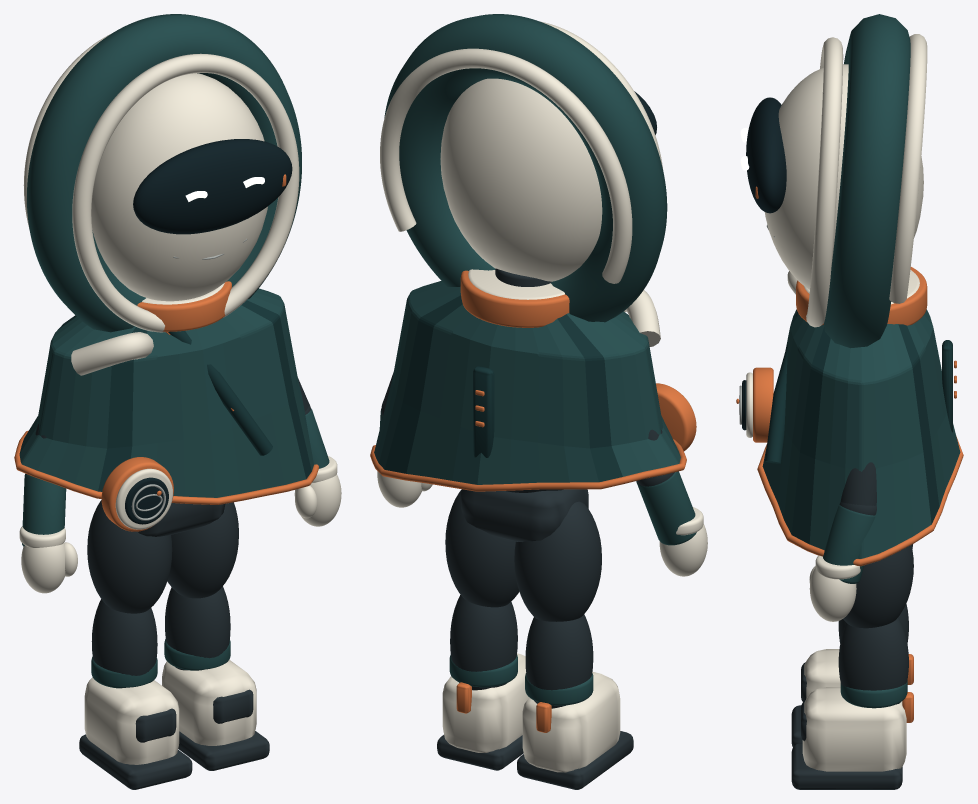
The model's file is moonphase-navigator.glb.
The picture shows the model from 3 angles, left to right: view 1: azimuth 30°, elevation 25°; view 2: azimuth 150°, elevation 25°; view 3: azimuth 270°, elevation 25°; orthographic projection. The views are drawn at different scales.
Visible parts, largest first — view 1: Asymmetric sculptural poncho, Crescent hood padded body, Oval pearl face, Moonstone hood front piping, Single horizontal charcoal visor, Tailored graphite trouser thigh -1, Moonstone boot -1, Moonstone boot 1, Tailored graphite trouser thigh 1, Trouser tapered lower leg -1, Trouser tapered lower leg 1, Graphite boot sole -1 (+20 smaller); view 2: Asymmetric sculptural poncho, Crescent hood padded body, Oval pearl face, Sculpted ivory lunar crest, Tailored graphite trouser thigh -1, Moonstone boot -1, Tailored graphite trouser thigh 1, Moonstone boot 1, Pelvis, Trouser tapered lower leg -1, Trouser tapered lower leg 1, Persimmon scarf collar (+13 smaller); view 3: Asymmetric sculptural poncho, Crescent hood padded body, Oval pearl face, Moonstone boot 1, Moonstone hood front piping, Sculpted ivory lunar crest, Trouser tapered lower leg 1, Tailored graphite trouser thigh 1, Single horizontal charcoal visor, Graphite boot sole 1, Sleeve cuff 1, Burnt orange continuous cape hem (+10 smaller).
Boxes of the visible parts, x1,y1,x2,y2 form: Asymmetric sculptural poncho: (19,288,313,497); Crescent hood padded body: (27,14,301,332); Oval pearl face: (91,73,267,301); Moonstone hood front piping: (72,53,299,332); Single horizontal charcoal visor: (133,139,292,234); Tailored graphite trouser thigh -1: (87,500,172,613); Moonstone boot -1: (84,677,179,764); Moonstone boot 1: (162,660,256,745); Tailored graphite trouser thigh 1: (167,502,238,598); Trouser tapered lower leg -1: (91,599,157,675); Trouser tapered lower leg 1: (165,586,230,670); Graphite boot sole -1: (79,734,192,789); Asymmetric sculptural poncho: (374,281,680,484); Crescent hood padded body: (384,14,667,322); Oval pearl face: (440,78,602,281); Sculpted ivory lunar crest: (380,48,632,283); Tailored graphite trouser thigh -1: (514,501,601,621); Moonstone boot -1: (522,671,620,772); Tailored graphite trouser thigh 1: (445,490,519,607); Moonstone boot 1: (442,653,529,752); Pelvis: (461,489,588,541); Trouser tapered lower leg -1: (525,614,593,708); Trouser tapered lower leg 1: (450,595,517,690); Persimmon scarf collar: (460,270,569,327); Asymmetric sculptural poncho: (762,309,960,558); Crescent hood padded body: (824,14,910,348); Oval pearl face: (764,64,923,289); Moonstone boot 1: (802,687,906,771); Moonstone hood front piping: (806,37,843,327); Sculpted ivory lunar crest: (889,34,927,303); Trouser tapered lower leg 1: (838,617,908,704); Tailored graphite trouser thigh 1: (843,545,913,628); Single horizontal charcoal visor: (746,97,786,213); Graphite boot sole 1: (791,743,902,789); Sleeve cuff 1: (823,505,875,583); Burnt orange continuous cape hem: (757,436,963,566).
Size of the model in its own units: 1.2 by 2.66 by 0.7489.
